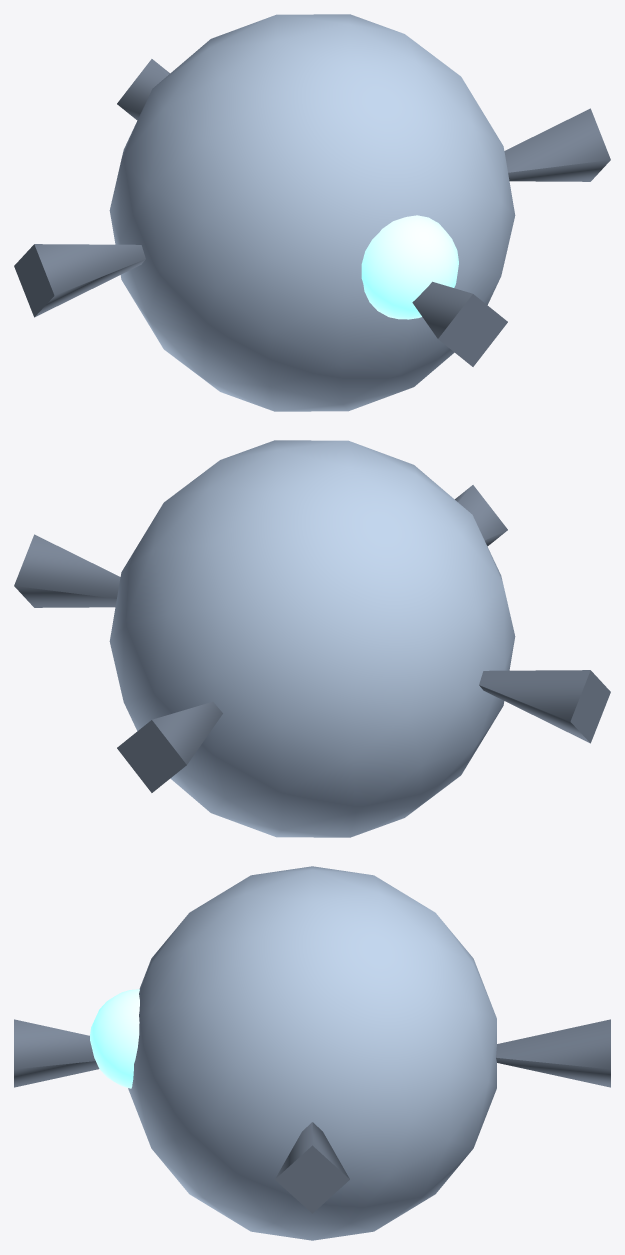
Rendered from scout_bot.glb.
The picture shows the model from 3 angles, top to bottom: view 1: azimuth 30°, elevation 25°; view 2: azimuth 150°, elevation 25°; view 3: azimuth 270°, elevation 25°; orthographic projection. The views are drawn at different scales.
Parts seen in each view (by area): view 1: core; view 2: core; view 3: core.
Boxes of the visible parts, x1,y1,x2,y2 form: core: (14,14,610,411); core: (14,440,610,837); core: (14,866,610,1240).
Bounding box in the file's own units: 1.9 × 1.18 × 1.9.
